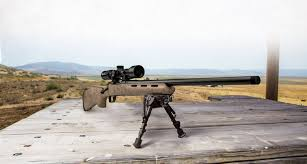Gun: (101, 66, 264, 129)
